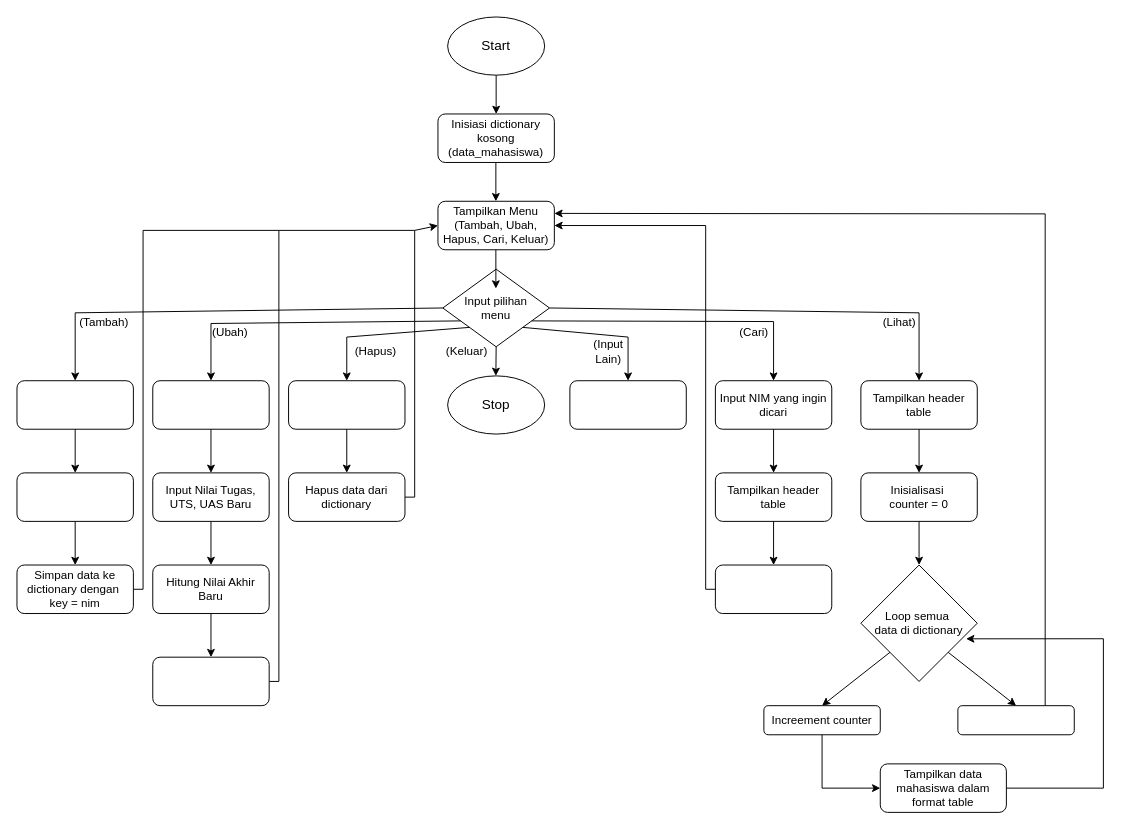
The diagram is 1128 pixels wide and 829 high, and some of its shapes have lost their labels. Each missing label, with the centre of its shape:
"Hitung Nilai Akhir (30%Tugas + 35%UTS+ 35%UAS)" goes at point (74, 496).
"Input NIM yang ingin dihapus" goes at point (346, 404).
"Input NIM yang ingin diubah" goes at point (210, 404).
"Input NIM, Nama, Nilai Tugas, UTS, UAS" goes at point (74, 404).
"Tampilkan data mahasiswa yang ditemukan" goes at point (773, 589).
"Tampilkan garis penutup table" goes at point (1015, 720).
"Tampilkan Pesan (Perintah tidak ditemukan)" goes at point (627, 404).
"Update data di dictionary" goes at point (210, 681).
